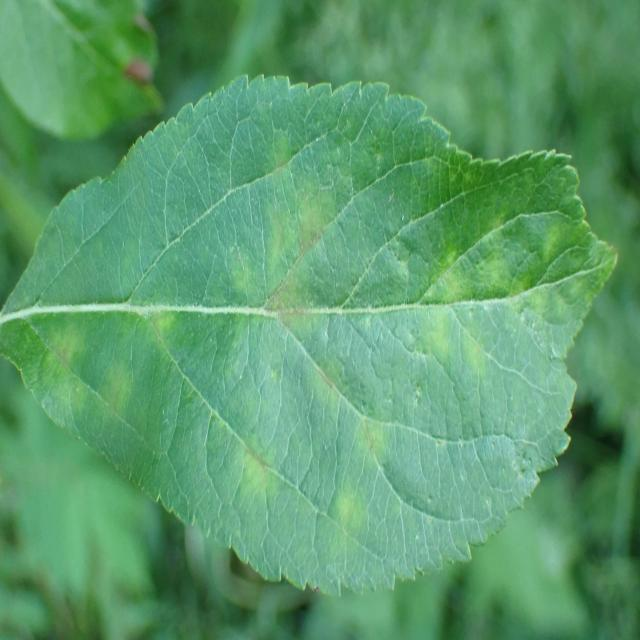scab: (29, 138, 611, 531)
